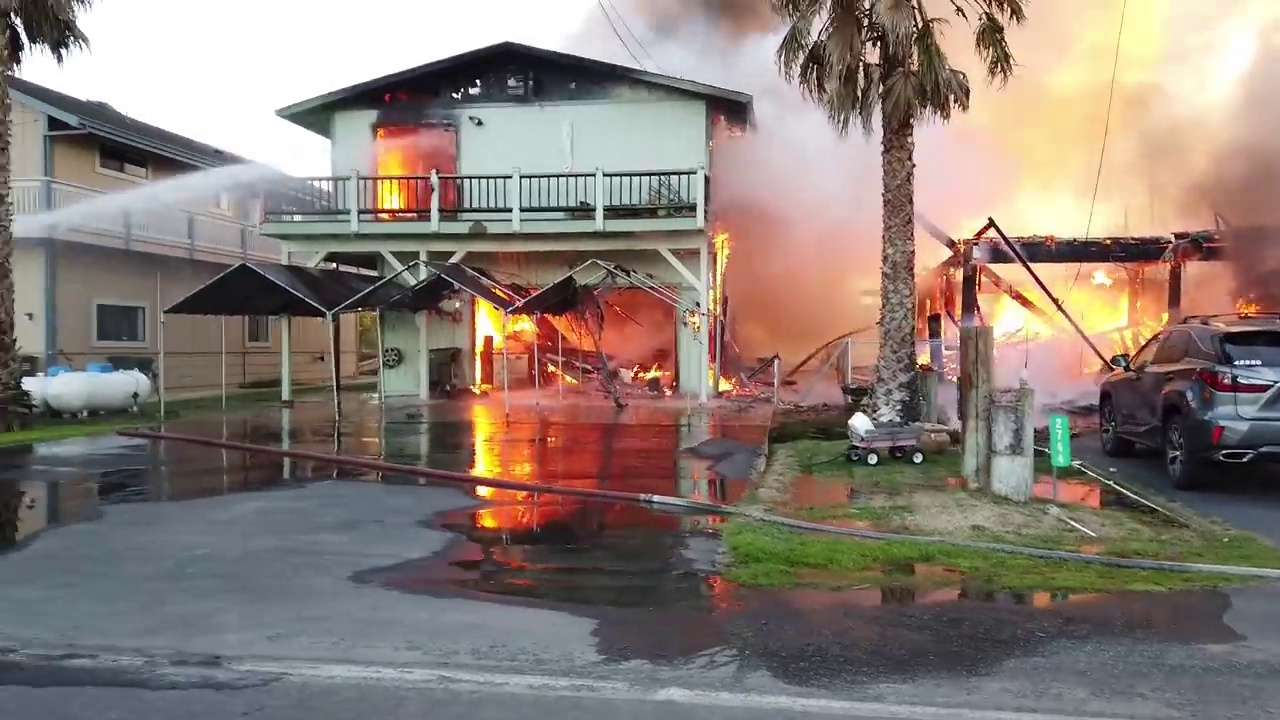fire: (468, 293, 677, 400), (458, 386, 539, 567), (472, 288, 610, 367), (984, 263, 1121, 331), (368, 127, 461, 211), (1230, 293, 1260, 313)
smoke: (1166, 7, 1280, 294), (1036, 4, 1165, 234), (712, 64, 888, 231), (735, 241, 883, 365), (908, 100, 1035, 225), (571, 1, 799, 66), (996, 328, 1096, 410), (1100, 320, 1146, 359), (378, 81, 426, 109)
